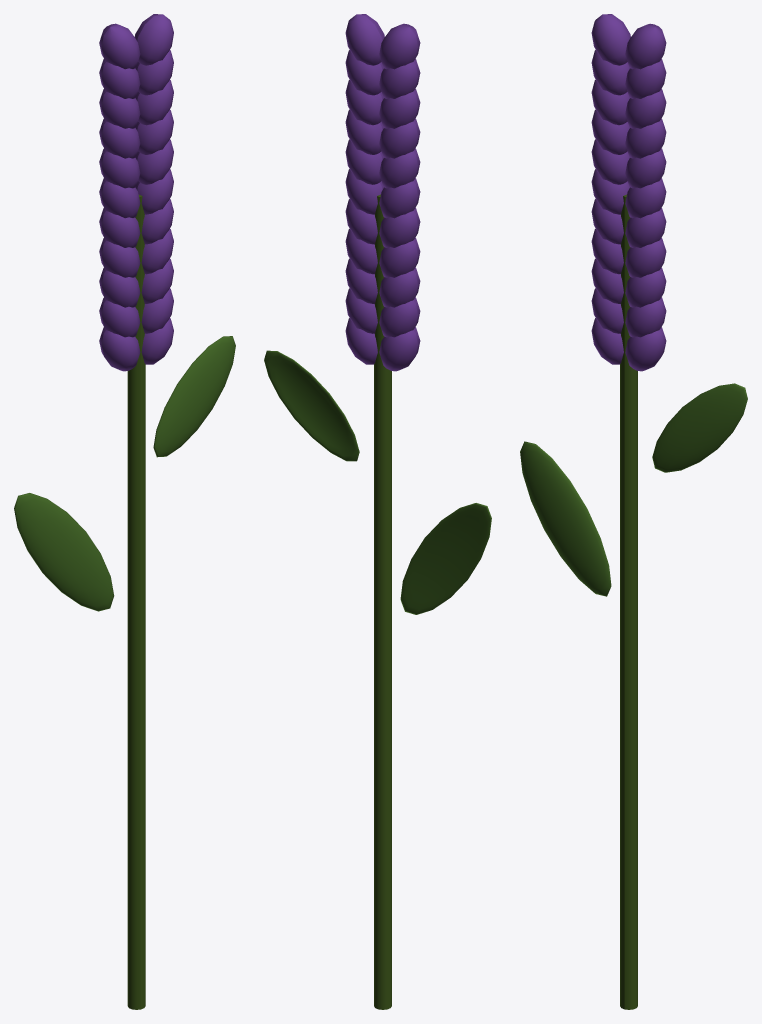
Rendered from F05-palette-v1.glb.
3 renders of one model, left to right at view 1: azimuth 30°, elevation 25°; view 2: azimuth 150°, elevation 25°; view 3: azimuth 330°, elevation 25°, orthographic.
Parts seen in each view (by area): view 1: F05_palette; view 2: F05_palette; view 3: F05_palette.
Boxes of the visible parts, <box> form: F05_palette: <box>14,14,235,1009</box>; F05_palette: <box>264,14,491,1009</box>; F05_palette: <box>520,14,747,1009</box>.
Size of the model in its own units: 0.1738 by 0.7277 by 0.0267.
